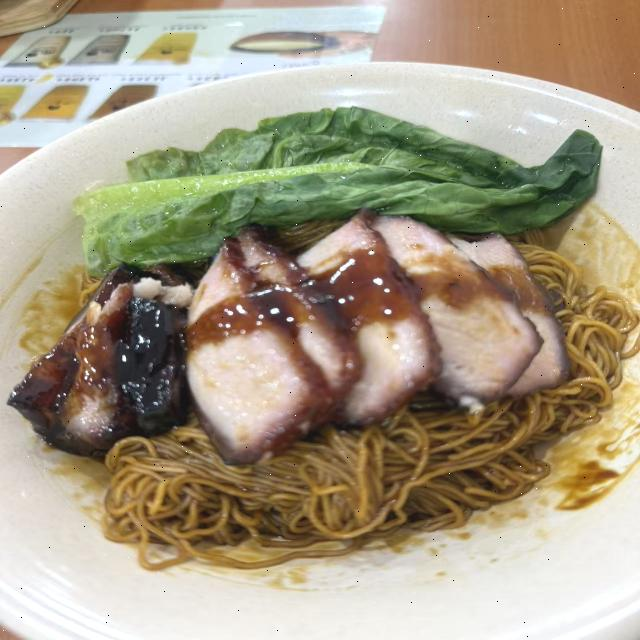Wantan Mee: (2, 82, 626, 588)
